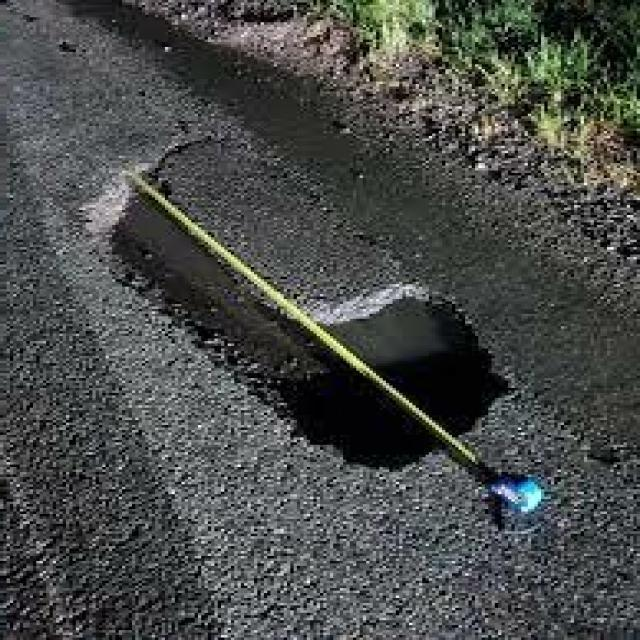pothole: (53, 158, 525, 499)
